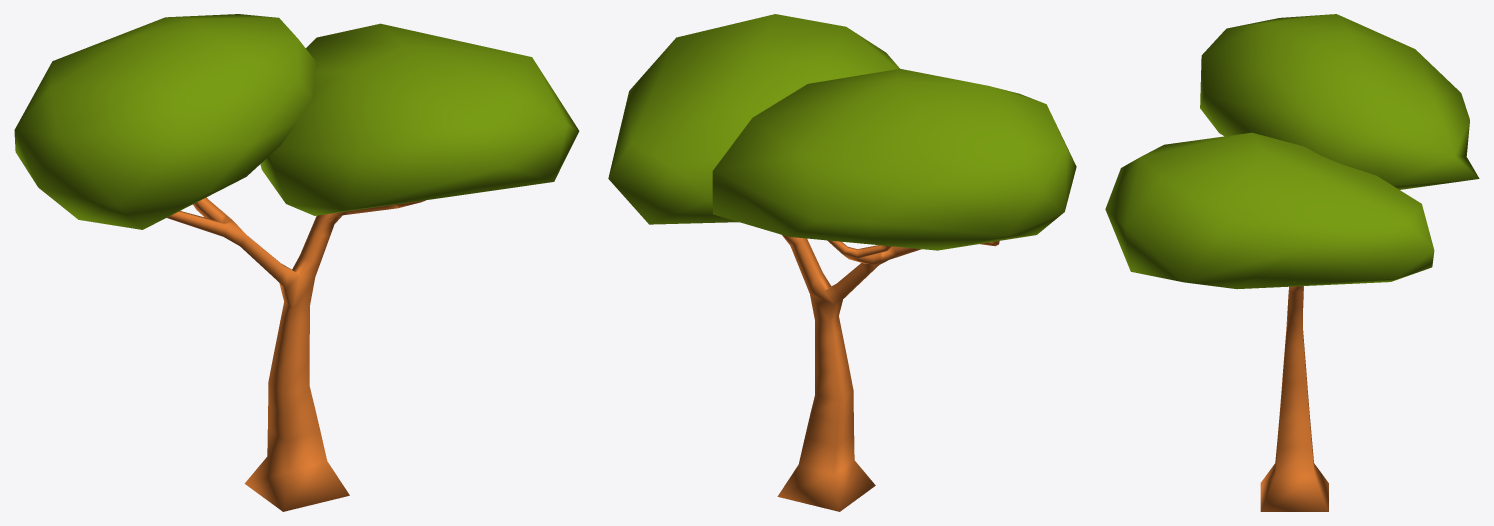
Rendered from LVL_1_2treeMODEL.fbx.
The picture shows the model from 3 angles, left to right: view 1: azimuth 30°, elevation 25°; view 2: azimuth 150°, elevation 25°; view 3: azimuth 270°, elevation 25°; orthographic projection. The views are drawn at different scales.
Visible parts, largest first — view 1: Vert.004; view 2: Vert.004; view 3: Vert.004.
Boxes of the visible parts, x1=… form: Vert.004: x1=14, y1=14, x2=579, y2=511; Vert.004: x1=608, y1=14, x2=1076, y2=511; Vert.004: x1=1105, y1=14, x2=1479, y2=511.
Bounding box in the file's own units: 1706 × 1603 × 1313.
